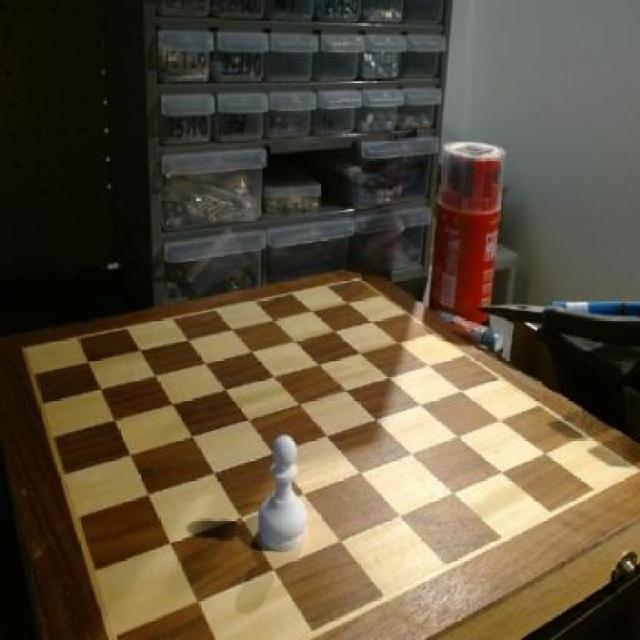white-knight: (257, 434, 311, 560)
